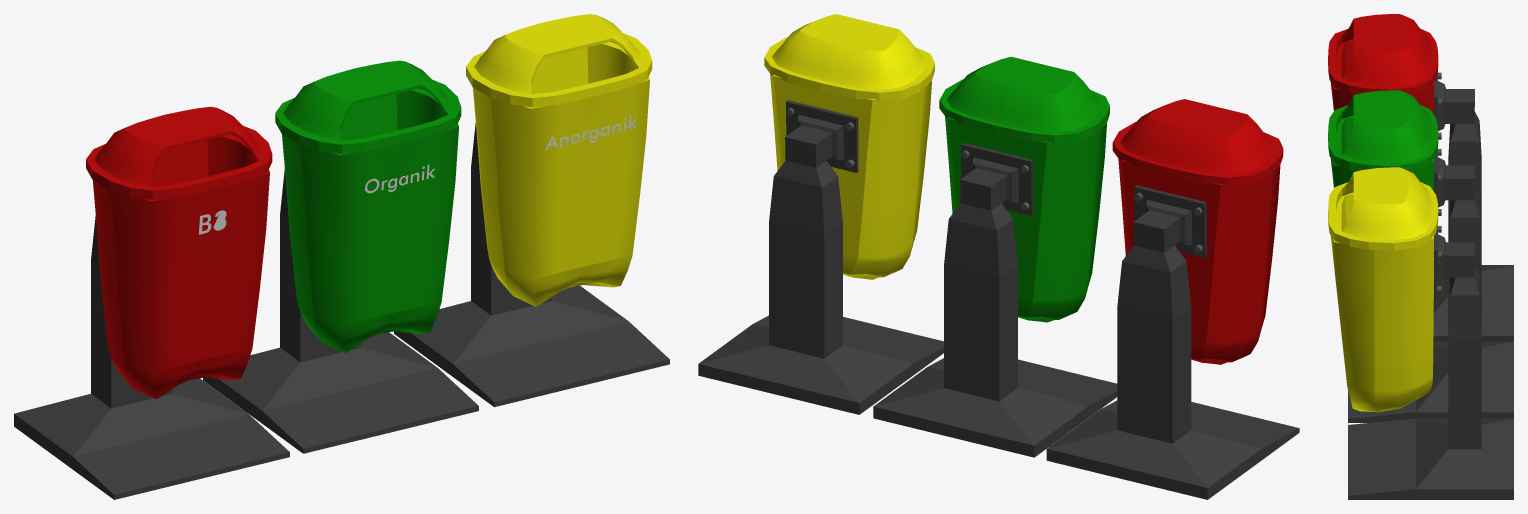
The model's file is Tong Sampah ada tulisan.fbx.
3 views of the same model, side by side, from view 1: azimuth 30°, elevation 25°; view 2: azimuth 150°, elevation 25°; view 3: azimuth 270°, elevation 25° (orthographic). The views are drawn at different scales.
Visible parts, largest first — view 1: polySurface3, polySurface4, polySurface2, pCube3, pCube24, pCube22, pCube23, pCube5, pCube25; view 2: pCube3, pCube24, pCube22, polySurface2, polySurface3, polySurface4, pCube5, pCube25, pCube23; view 3: pCube24, polySurface4, pCube22, pCube25, pCube23, pCube5, pCube3, polySurface3, polySurface2.
Boxes of the visible parts, x1=… form: polySurface3: x1=282, y1=88, x2=458, y2=352; polySurface4: x1=473, y1=42, x2=649, y2=306; polySurface2: x1=92, y1=134, x2=269, y2=399; pCube3: x1=14, y1=216, x2=289, y2=499; pCube24: x1=394, y1=123, x2=669, y2=407; pCube22: x1=203, y1=168, x2=478, y2=453; pCube23: x1=275, y1=60, x2=461, y2=153; pCube5: x1=86, y1=106, x2=272, y2=200; pCube25: x1=466, y1=14, x2=652, y2=107; pCube3: x1=1046, y1=185, x2=1299, y2=499; pCube24: x1=698, y1=100, x2=943, y2=414; pCube22: x1=873, y1=143, x2=1117, y2=457; polySurface2: x1=1118, y1=159, x2=1280, y2=364; polySurface3: x1=945, y1=116, x2=1106, y2=322; polySurface4: x1=770, y1=74, x2=931, y2=279; pCube5: x1=1112, y1=99, x2=1283, y2=186; pCube25: x1=764, y1=14, x2=934, y2=101; pCube23: x1=939, y1=56, x2=1109, y2=143; pCube24: x1=1348, y1=225, x2=1513, y2=499; polySurface4: x1=1330, y1=192, x2=1433, y2=412; pCube22: x1=1348, y1=148, x2=1513, y2=422; pCube25: x1=1328, y1=167, x2=1438, y2=250; pCube23: x1=1328, y1=90, x2=1438, y2=171; pCube5: x1=1328, y1=14, x2=1438, y2=95; pCube3: x1=1433, y1=72, x2=1513, y2=341; polySurface3: x1=1330, y1=115, x2=1433, y2=191; polySurface2: x1=1330, y1=39, x2=1433, y2=114.
Size of the model in its own units: 9.76 by 5.65 by 3.41.
